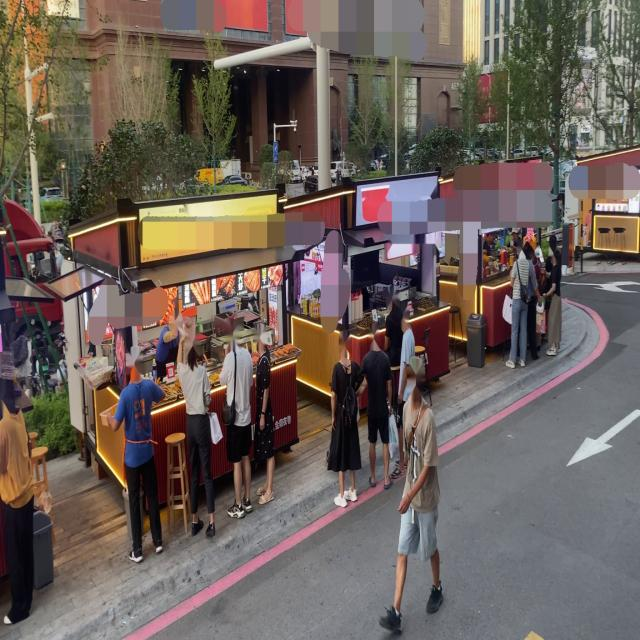fixed_stall: (131, 190, 304, 416), (346, 169, 442, 333), (480, 154, 547, 283), (72, 338, 116, 386)
